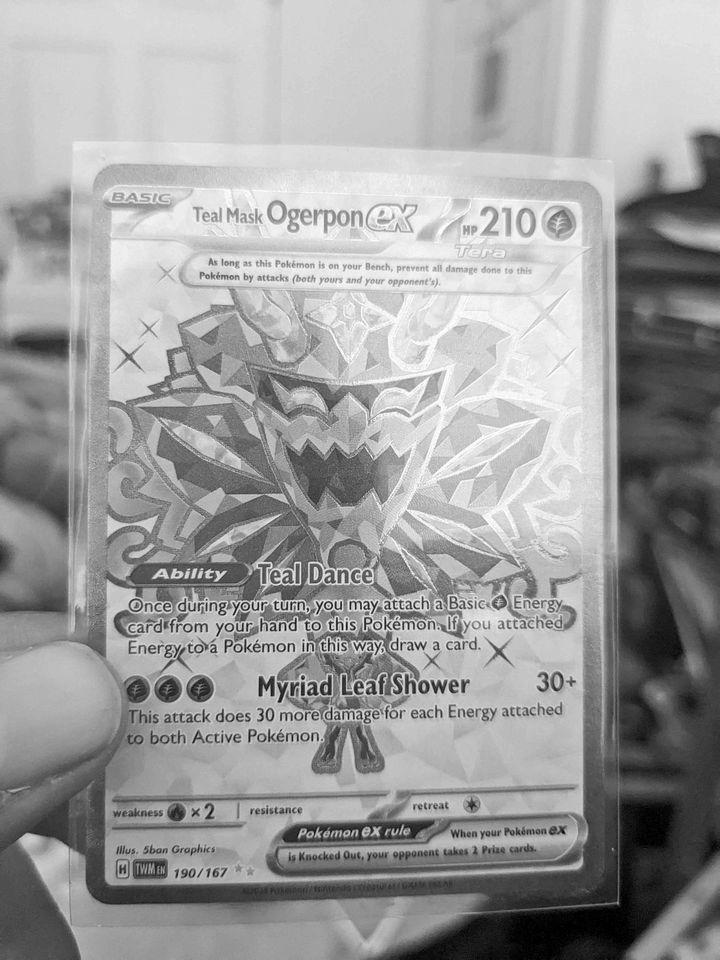card: (82, 161, 609, 906)
